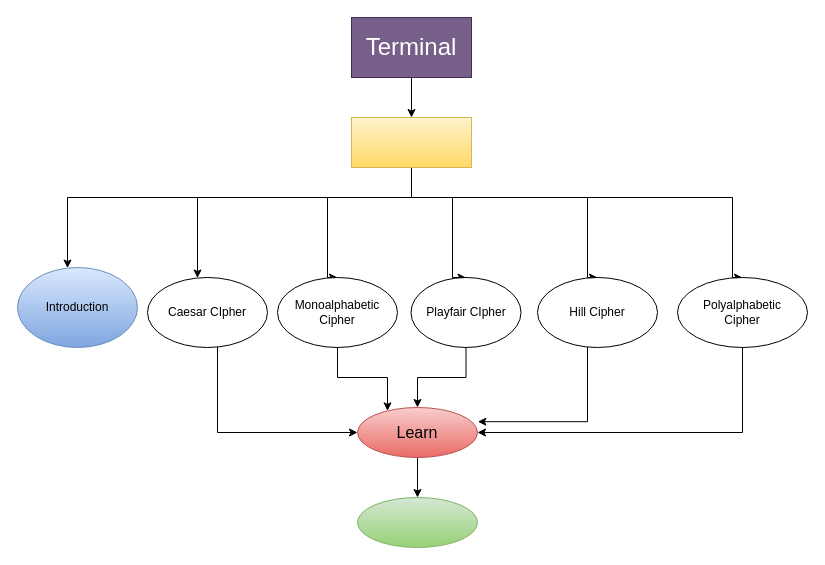
The diagram is 825 pixels wide and 565 high, and some of its shapes have lost their labels. Here are the shapes that lost their labels. From the top down, the box of each, then its label:
(350, 116, 472, 168): Menu
(356, 496, 478, 548): Practice
